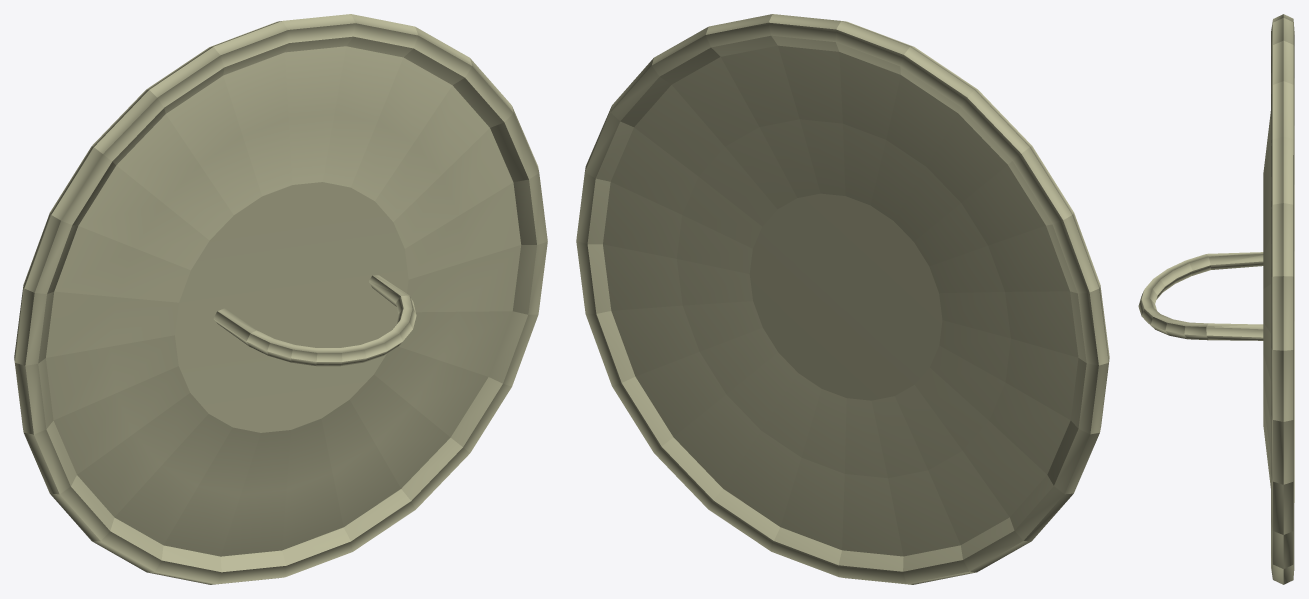
File: LidmeshLaundryHamperLid_1_1.obj
3 renders of one model, left to right at view 1: azimuth 30°, elevation 25°; view 2: azimuth 150°, elevation 25°; view 3: azimuth 270°, elevation 25°, orthographic. The views are drawn at different scales.
Parts seen in each view (by area): view 1: LaundryHamperLid_1; view 2: LaundryHamperLid_1; view 3: LaundryHamperLid_1.
Part boxes in pixels (<box>): LaundryHamperLid_1: <box>14,14,547,584</box>; LaundryHamperLid_1: <box>576,14,1109,584</box>; LaundryHamperLid_1: <box>1138,14,1294,584</box>.
Size of the model in its own units: 0.5243 by 0.5243 by 0.1429.
